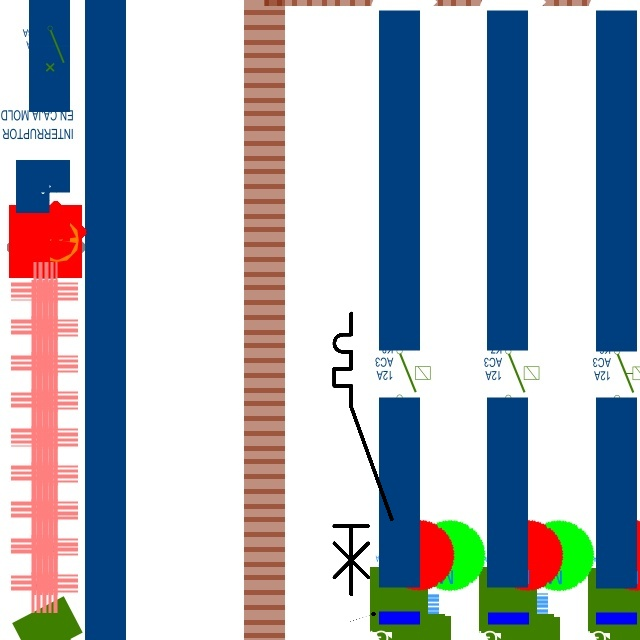interruptor_termomagnetico: (327, 306, 399, 601)
